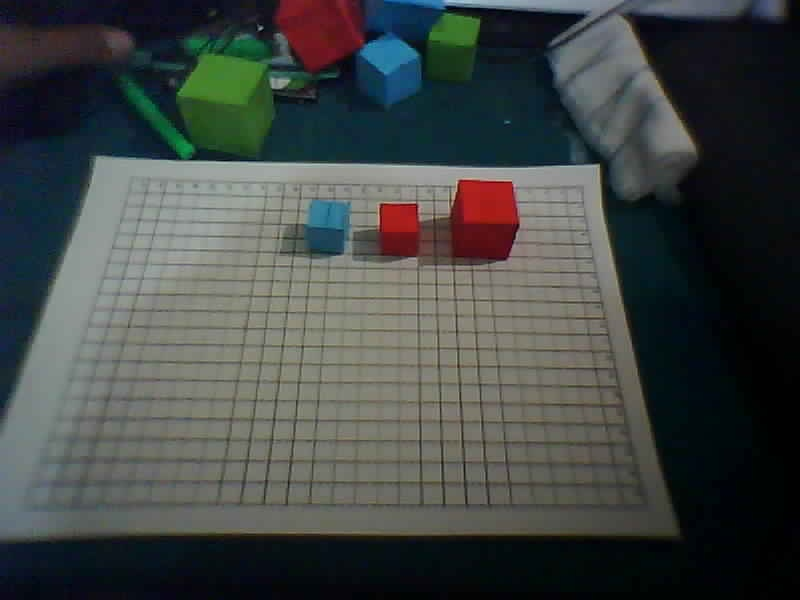blue 2x2x2: (295, 187, 349, 250)
red 2x2x2: (367, 191, 422, 262)
red 3x3x3: (432, 175, 523, 262)
